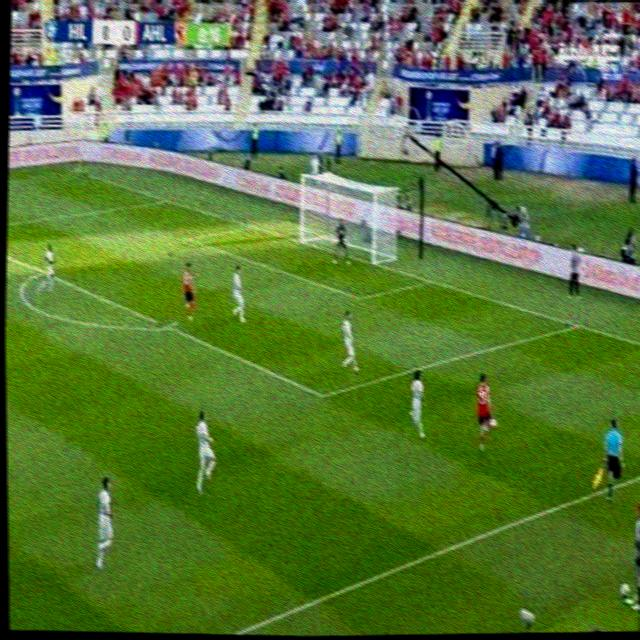bigarea_bottom_inner: (309, 379, 334, 410)
bigarea_bottom_outter: (563, 311, 587, 337)
bigarea_top_outter: (157, 191, 175, 207)
bottom_arc_area_intersection: (154, 313, 178, 338)
corner: (69, 163, 88, 179)
smallarea_bottom_inner: (349, 285, 368, 307)
smallarea_bottom_outter: (418, 270, 436, 289)
smallarea_top_inner: (179, 228, 197, 246)
smallarea_top_outter: (239, 216, 259, 233)
top_arc_area_intersection: (31, 261, 47, 278)
